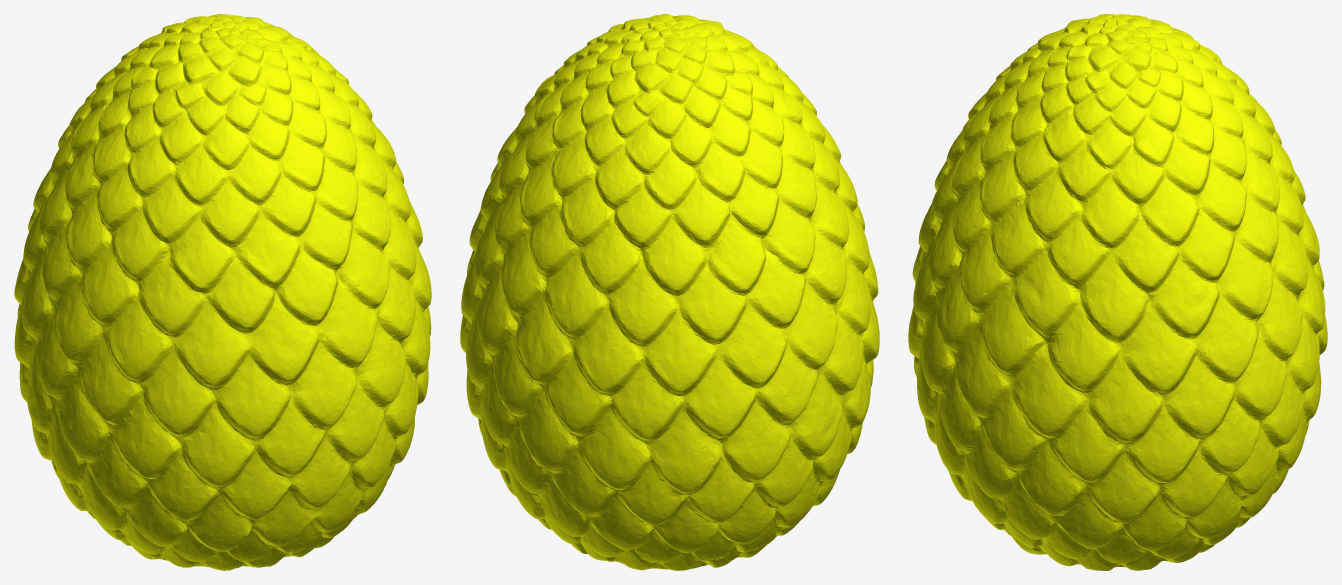
The model's file is Egg_Elec.fbx.
3 views of the same model, side by side, from view 1: azimuth 30°, elevation 25°; view 2: azimuth 150°, elevation 25°; view 3: azimuth 270°, elevation 25° (orthographic).
Parts seen in each view (by area): view 1: DragonEggSolid; view 2: DragonEggSolid; view 3: DragonEggSolid.
Part boxes in pixels (bbox=[...]): DragonEggSolid: bbox=[14, 14, 431, 570]; DragonEggSolid: bbox=[460, 14, 879, 570]; DragonEggSolid: bbox=[908, 14, 1327, 570].
Bounding box in the file's own units: 185 × 244 × 185.
